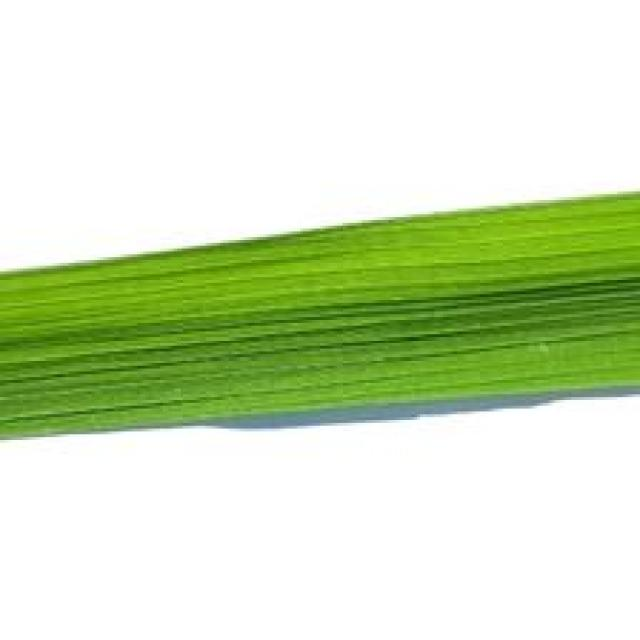Rice___Healthy_Rice_Plant: (0, 192, 637, 443)
